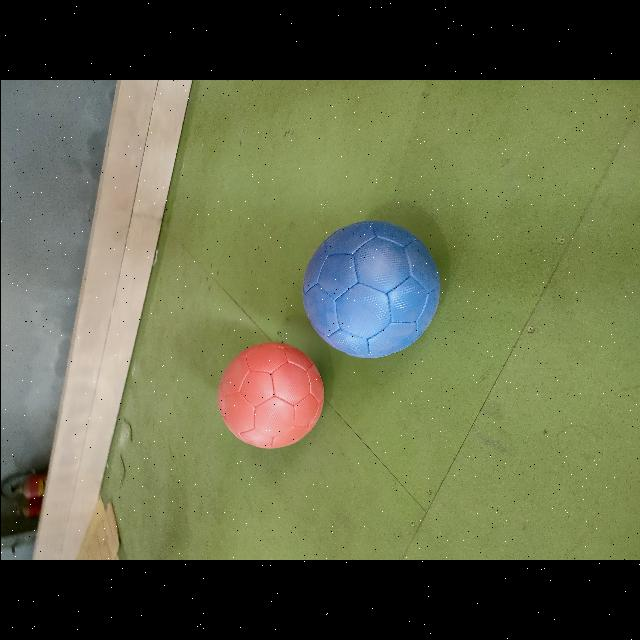B: (302, 221, 438, 358)
R: (217, 343, 322, 449)
